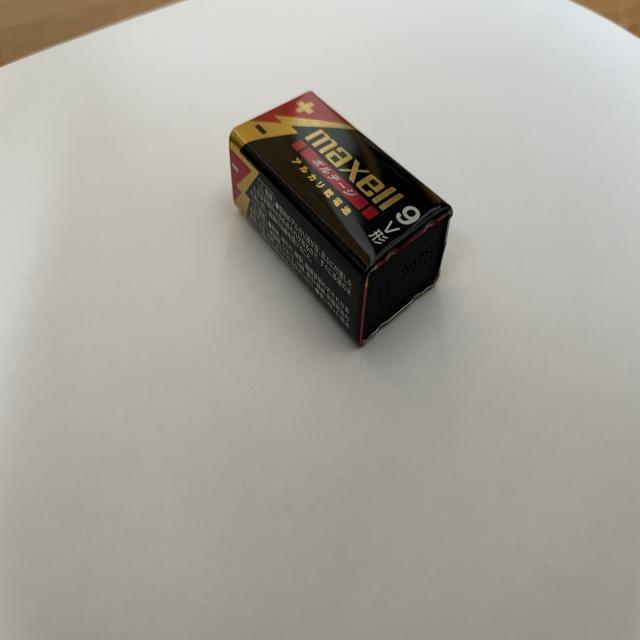9V: (228, 89, 454, 347)
